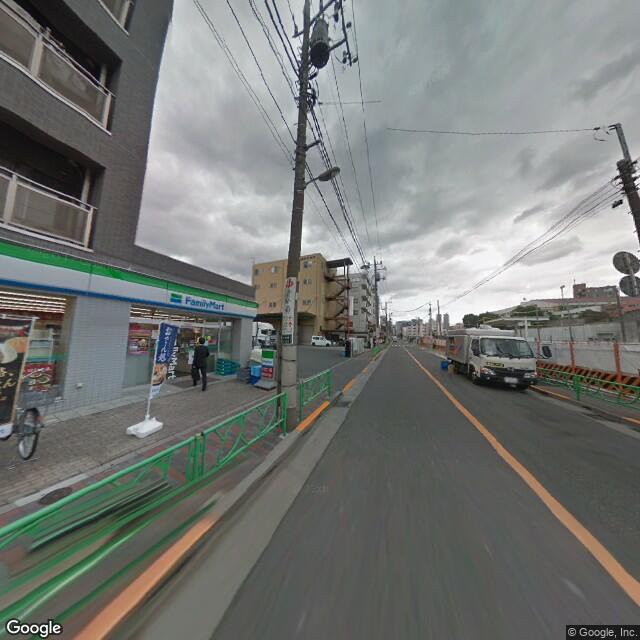family_mart: (1, 241, 258, 324), (166, 288, 228, 316), (258, 343, 275, 371)
